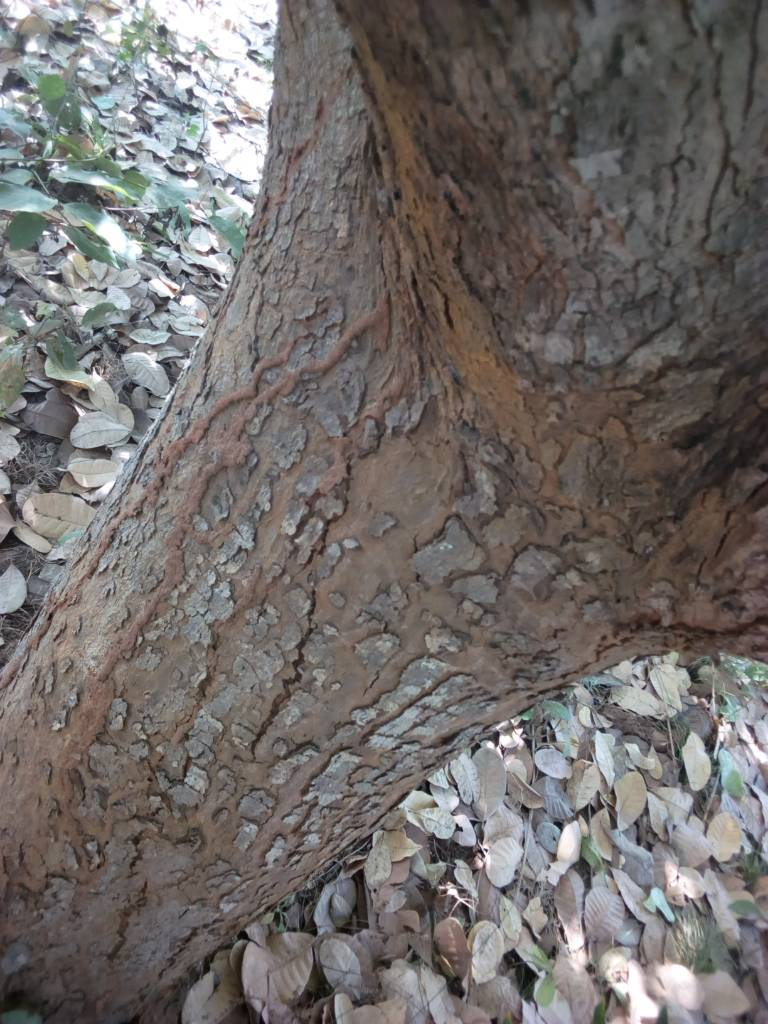Termites: (65, 313, 405, 753)
